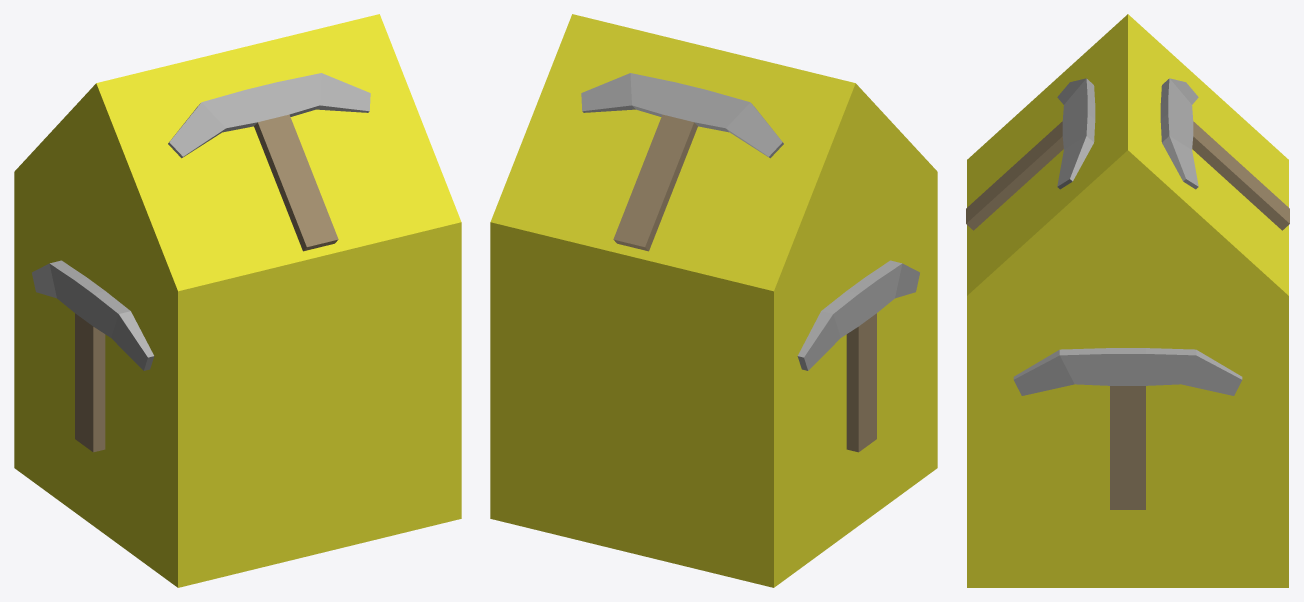
Rendered from simpleMine.fbx.
The picture shows the model from 3 angles, left to right: view 1: azimuth 30°, elevation 25°; view 2: azimuth 150°, elevation 25°; view 3: azimuth 270°, elevation 25°; orthographic projection.
Parts seen in each view (by area): view 1: Cube, Cube.002, Cube.001; view 2: Cube, Cube.003, Cube.001; view 3: Cube, Cube.001, Cube.002, Cube.003.
Boxes of the visible parts, bbox=[...] form: Cube: bbox=[14, 14, 461, 587]; Cube.002: bbox=[168, 73, 370, 251]; Cube.001: bbox=[32, 260, 154, 452]; Cube: bbox=[490, 14, 937, 587]; Cube.003: bbox=[581, 73, 783, 251]; Cube.001: bbox=[797, 260, 919, 452]; Cube: bbox=[967, 14, 1288, 587]; Cube.001: bbox=[1013, 348, 1242, 509]; Cube.002: bbox=[966, 78, 1095, 230]; Cube.003: bbox=[1160, 78, 1289, 230].
Bounding box in the file's own units: 217 × 300 × 201.
